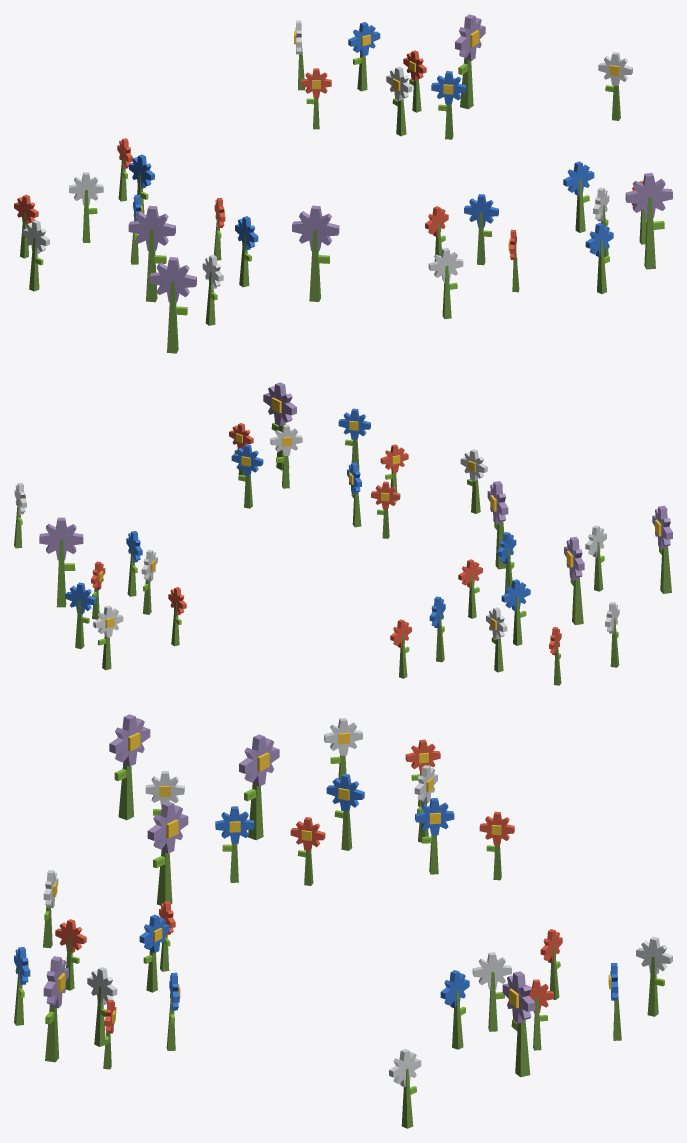
File: pleindefleurs.glb
The picture shows the model from 3 angles, top to bottom: view 1: azimuth 30°, elevation 25°; view 2: azimuth 150°, elevation 25°; view 3: azimuth 270°, elevation 25°; orthographic projection. The views are drawn at different scales.
Parts seen in each view (by area): view 1: Cube.012, Cube.028, Cube, Cube.006, Cube.019, Cube.020, Cube.021, Cube.015, Cube.009, Cube.008, Cube.026, Cube.016 (+11 smaller); view 2: Cube.019, Cube.028, Cube.006, Cube.012, Cube, Cube.026, Cube.008, Cube.025, Cube.014, Cube.011, Cube.020, Cube.024 (+17 smaller); view 3: Cube.012, Cube, Cube.006, Cube.019, Cube.028, Cube.001, Cube.014, Cube.011, Cube.002, Cube.004, Cube.015, Cube.021 (+16 smaller).
Part boxes in pixels (x1,y1,x2,y2): Cube.012: [149, 257, 196, 353]; Cube.028: [625, 173, 672, 269]; Cube: [292, 205, 339, 301]; Cube.006: [128, 205, 175, 302]; Cube.019: [455, 14, 485, 109]; Cube.020: [428, 248, 463, 319]; Cube.021: [464, 194, 498, 265]; Cube.015: [598, 52, 632, 120]; Cube.009: [431, 71, 466, 139]; Cube.008: [348, 22, 380, 91]; Cube.026: [563, 161, 594, 232]; Cube.016: [69, 172, 103, 242]; Cube.019: [39, 517, 83, 607]; Cube.028: [263, 382, 296, 470]; Cube.006: [564, 536, 584, 624]; Cube.012: [652, 505, 672, 593]; Cube: [487, 481, 508, 569]; Cube.026: [231, 444, 263, 508]; Cube.008: [65, 582, 96, 648]; Cube.025: [270, 424, 302, 488]; Cube.014: [93, 605, 123, 670]; Cube.011: [501, 579, 530, 645]; Cube.020: [460, 449, 487, 513]; Cube.024: [338, 408, 370, 471]; Cube.012: [109, 714, 150, 820]; Cube: [147, 801, 188, 905]; Cube.006: [239, 734, 279, 840]; Cube.019: [502, 971, 535, 1077]; Cube.028: [43, 956, 68, 1062]; Cube.001: [472, 952, 511, 1031]; Cube.014: [636, 936, 672, 1016]; Cube.011: [326, 773, 364, 850]; Cube.002: [415, 798, 454, 874]; Cube.004: [215, 806, 254, 882]; Cube.015: [389, 1049, 421, 1128]; Cube.021: [139, 914, 169, 992].
Bounding box in the file's own units: 9.86 × 1.37 × 8.05.
Materials: 4 (4 with a texture image).
